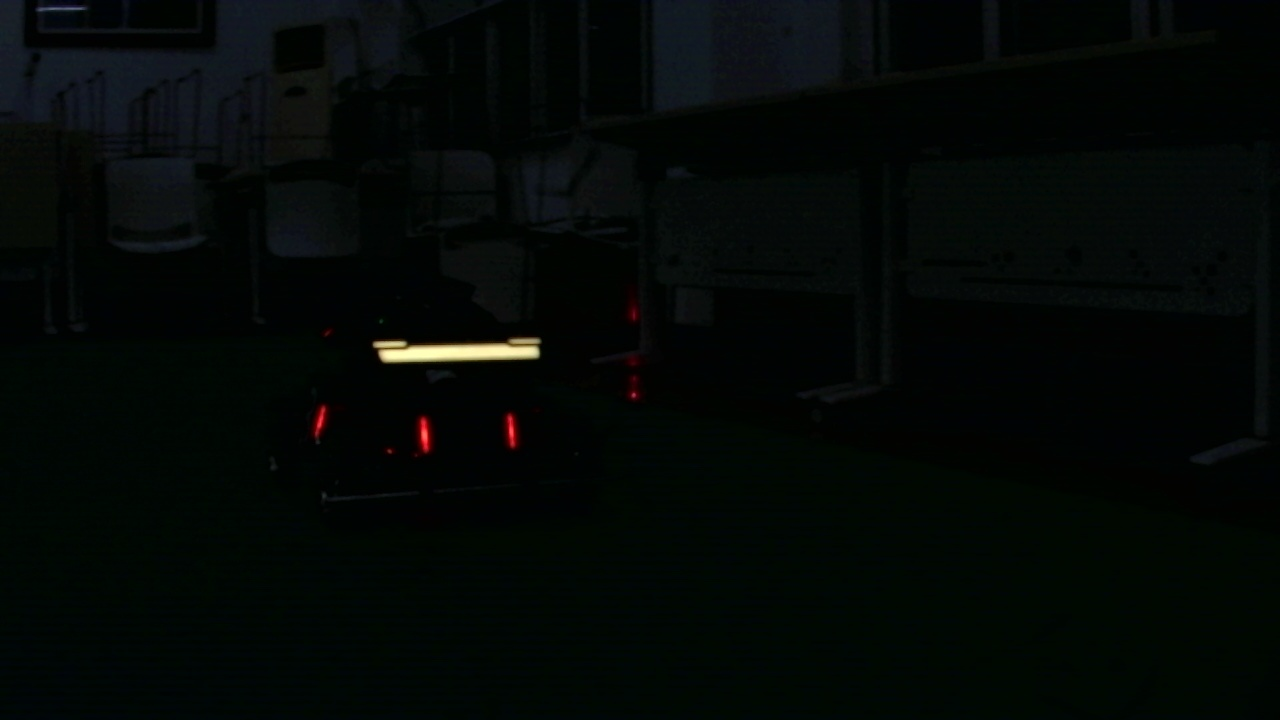lamp: (311, 400, 329, 441), (421, 415, 434, 453), (506, 417, 519, 453)
pair1: (418, 418, 520, 449)
